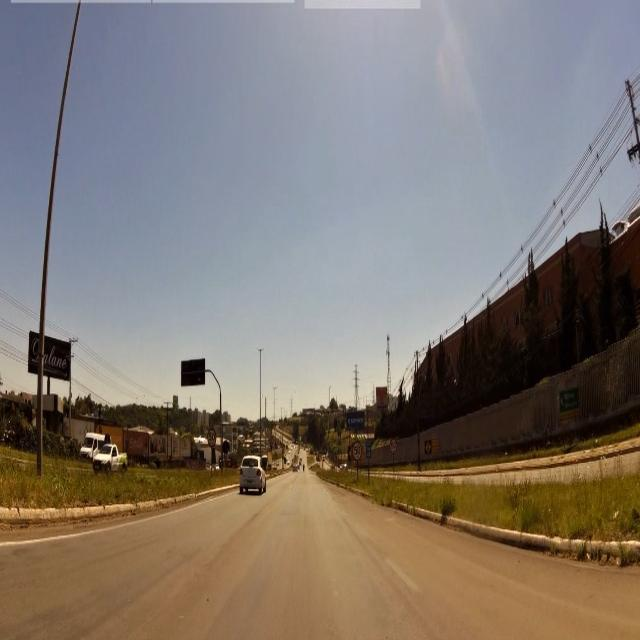R-19: (352, 442, 361, 460)
